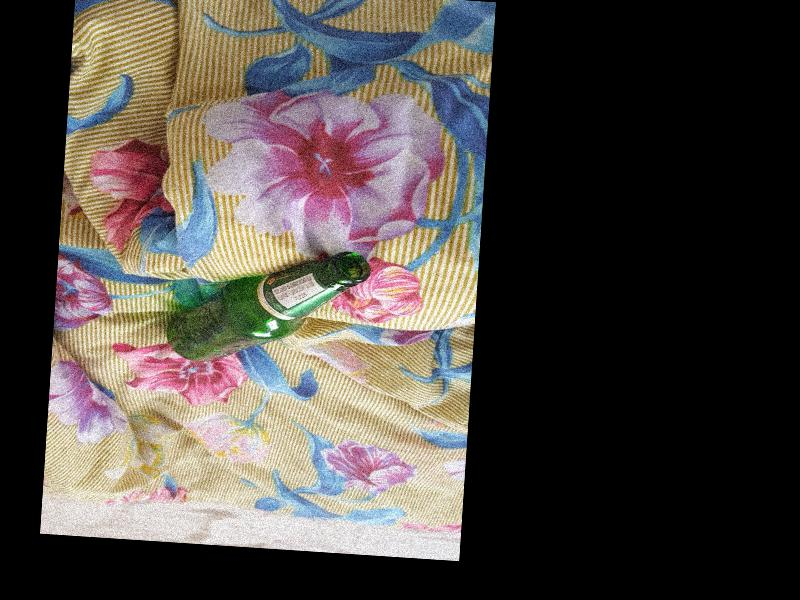Beer: (167, 239, 370, 371)
